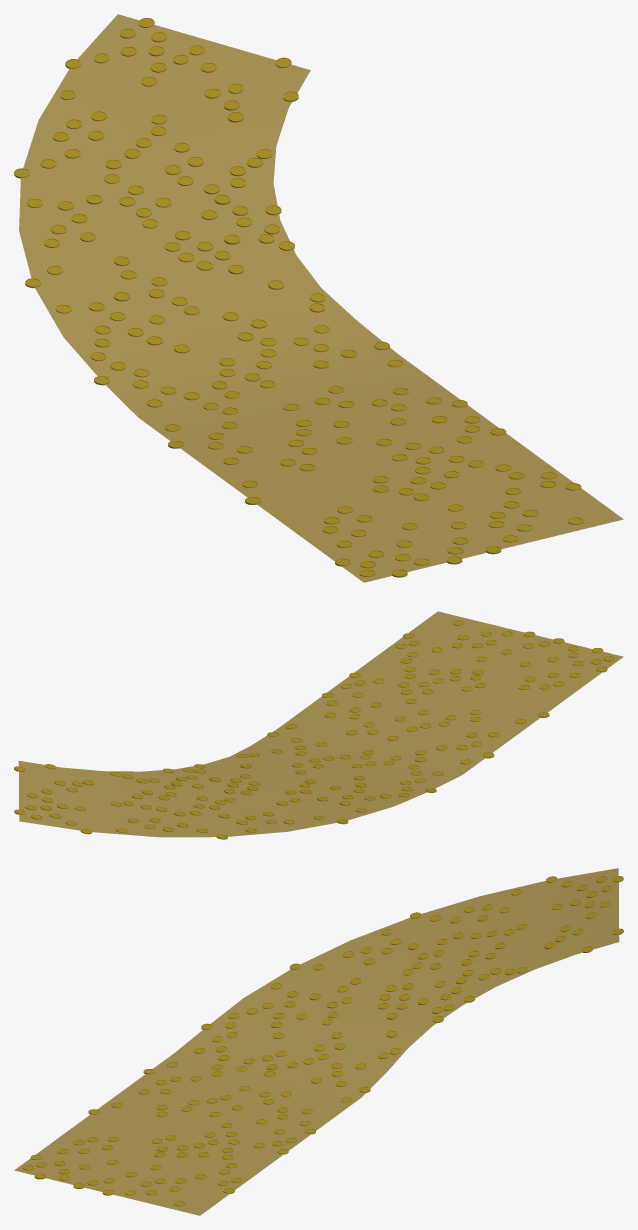
Rendered from static_coinriver.fbx.
3 views of the same model, one above another, from view 1: azimuth 30°, elevation 25°; view 2: azimuth 150°, elevation 25°; view 3: azimuth 330°, elevation 25° (orthographic). The views are drawn at different scales.
Parts seen in each view (by area): view 1: 06_wall_2.001; view 2: 06_wall_2.001; view 3: 06_wall_2.001.
Part boxes in pixels (x1,y1,x2,y2): 06_wall_2.001: (19,14,623,582); 06_wall_2.001: (18,611,623,837); 06_wall_2.001: (14,868,619,1215).
Bounding box in the file's own units: 2298 × 533 × 5428.
